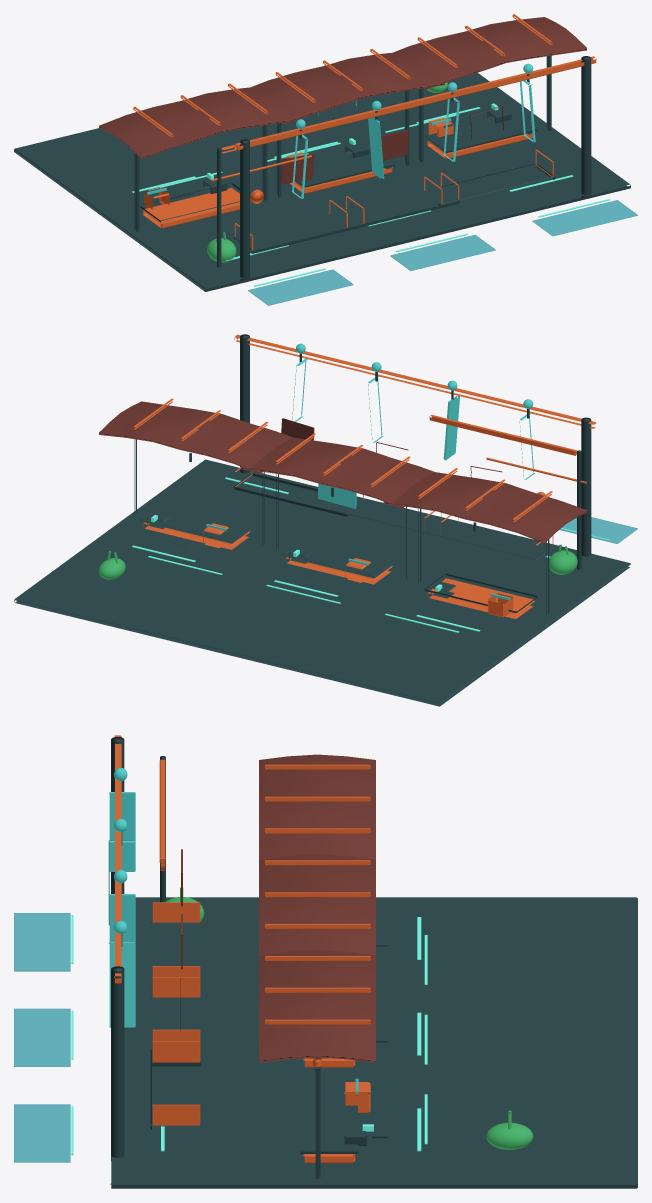
Rendered from flood_market.gltf.
The picture shows the model from 3 angles, top to bottom: view 1: azimuth 30°, elevation 25°; view 2: azimuth 150°, elevation 25°; view 3: azimuth 270°, elevation 25°; orthographic projection. The views are drawn at different scales.
Parts seen in each view (by area): view 1: FloodMarketFloor, FloodMarketCanopyRoof0, FloodMarketCanopyRoof2, FloodMarketCanopyRoof1, FloodMarketTideGateBeam, FloodMarketFloodDeck1, FloodMarketFloodDeck0, FloodMarketStall0, FloodMarketStallFrame2, FloodMarketWaterChannel0, FloodMarketWaterChannel2, FloodMarketWaterChannel1 (+11 smaller); view 2: FloodMarketFloor, FloodMarketCanopyRoof0, FloodMarketCanopyRoof2, FloodMarketCanopyRoof1, FloodMarketFloodDeck0, FloodMarketTideGateBeam, FloodMarketFloodDeck1, FloodMarketStallFrame2, FloodMarketStallFrame1, FloodMarketStall0, FloodMarketTideGatePost0, FloodMarketCraneArm (+10 smaller); view 3: FloodMarketFloor, FloodMarketCanopyRoof2, FloodMarketCanopyRoof0, FloodMarketCanopyRoof1, FloodMarketWaterChannel0, FloodMarketWaterChannel2, FloodMarketWaterChannel1, FloodMarketStallFrame2, FloodMarketTideGatePost1, FloodMarketFloodDeck0, FloodMarketFloodDeck1, FloodMarketTideGateFin0 (+17 smaller).
Boxes of the visible parts, bbox=[...] form: FloodMarketFloor: bbox=[14, 72, 630, 291]; FloodMarketCanopyRoof0: bbox=[99, 87, 302, 158]; FloodMarketCanopyRoof2: bbox=[393, 17, 586, 89]; FloodMarketCanopyRoof1: bbox=[251, 52, 444, 124]; FloodMarketTideGateBeam: bbox=[234, 56, 596, 150]; FloodMarketFloodDeck1: bbox=[330, 186, 459, 230]; FloodMarketFloodDeck0: bbox=[234, 214, 364, 253]; FloodMarketStall0: bbox=[143, 188, 250, 228]; FloodMarketStallFrame2: bbox=[424, 113, 537, 153]; FloodMarketWaterChannel0: bbox=[248, 269, 353, 305]; FloodMarketWaterChannel2: bbox=[532, 200, 637, 236]; FloodMarketWaterChannel1: bbox=[390, 234, 495, 270]; FloodMarketFloor: bbox=[14, 459, 630, 706]; FloodMarketCanopyRoof0: bbox=[383, 472, 586, 543]; FloodMarketCanopyRoof2: bbox=[99, 401, 293, 473]; FloodMarketCanopyRoof1: bbox=[241, 437, 435, 508]; FloodMarketFloodDeck0: bbox=[423, 519, 554, 563]; FloodMarketTideGateBeam: bbox=[234, 334, 596, 428]; FloodMarketFloodDeck1: bbox=[329, 498, 447, 539]; FloodMarketStallFrame2: bbox=[140, 504, 252, 543]; FloodMarketStallFrame1: bbox=[282, 538, 395, 578]; FloodMarketStall0: bbox=[427, 578, 534, 619]; FloodMarketTideGatePost0: bbox=[581, 417, 591, 556]; FloodMarketCraneArm: bbox=[429, 415, 577, 455]; FloodMarketFloor: bbox=[110, 897, 637, 1188]; FloodMarketCanopyRoof2: bbox=[259, 949, 375, 1062]; FloodMarketCanopyRoof0: bbox=[259, 754, 375, 860]; FloodMarketCanopyRoof1: bbox=[259, 854, 375, 955]; FloodMarketWaterChannel0: bbox=[14, 913, 70, 971]; FloodMarketWaterChannel2: bbox=[14, 1104, 70, 1162]; FloodMarketWaterChannel1: bbox=[14, 1008, 70, 1066]; FloodMarketStallFrame2: bbox=[300, 1089, 357, 1153]; FloodMarketTideGatePost1: bbox=[111, 966, 124, 1160]; FloodMarketFloodDeck0: bbox=[151, 921, 201, 998]; FloodMarketFloodDeck1: bbox=[151, 986, 201, 1066]; FloodMarketTideGateFin0: bbox=[109, 792, 135, 871].
Size of the model in its own units: 18.8 by 5.88 by 16.55.
